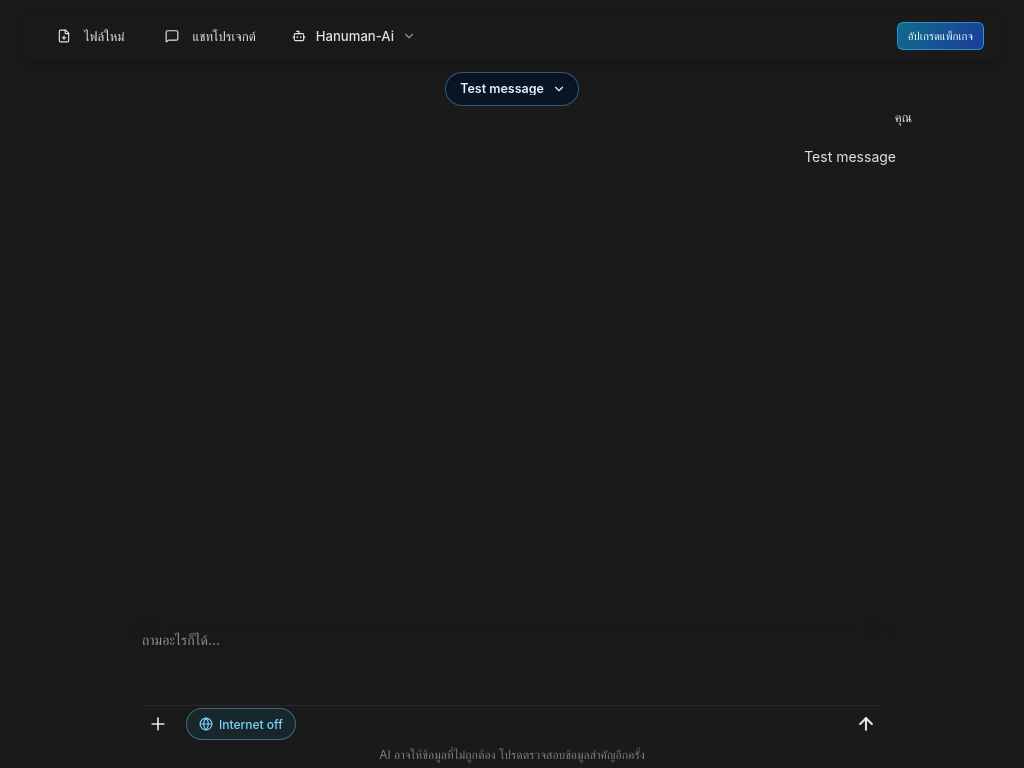
Test case: ChatAssistantPage Integration › toggles chat history drawer
Click the button with class "header-action-btn" showing "แชทโปรเจกต์" at (208,36), box [148,20,268,52]
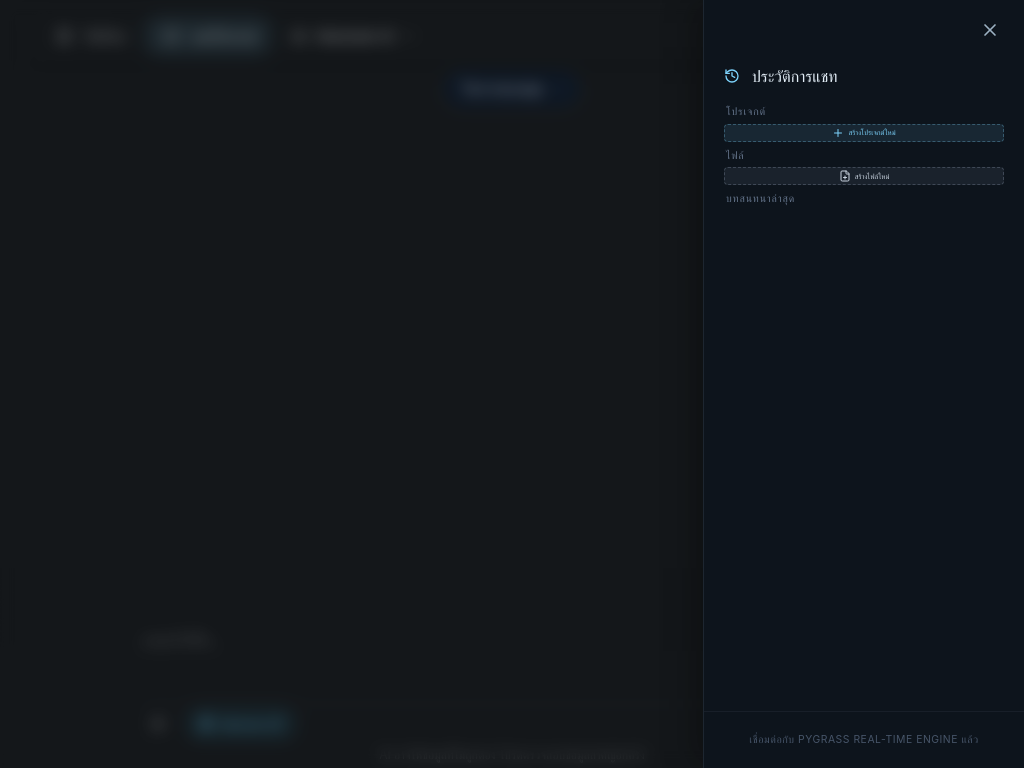
Now the element with class "chat-history-drawer" is shown, box [703,0,1023,767]
